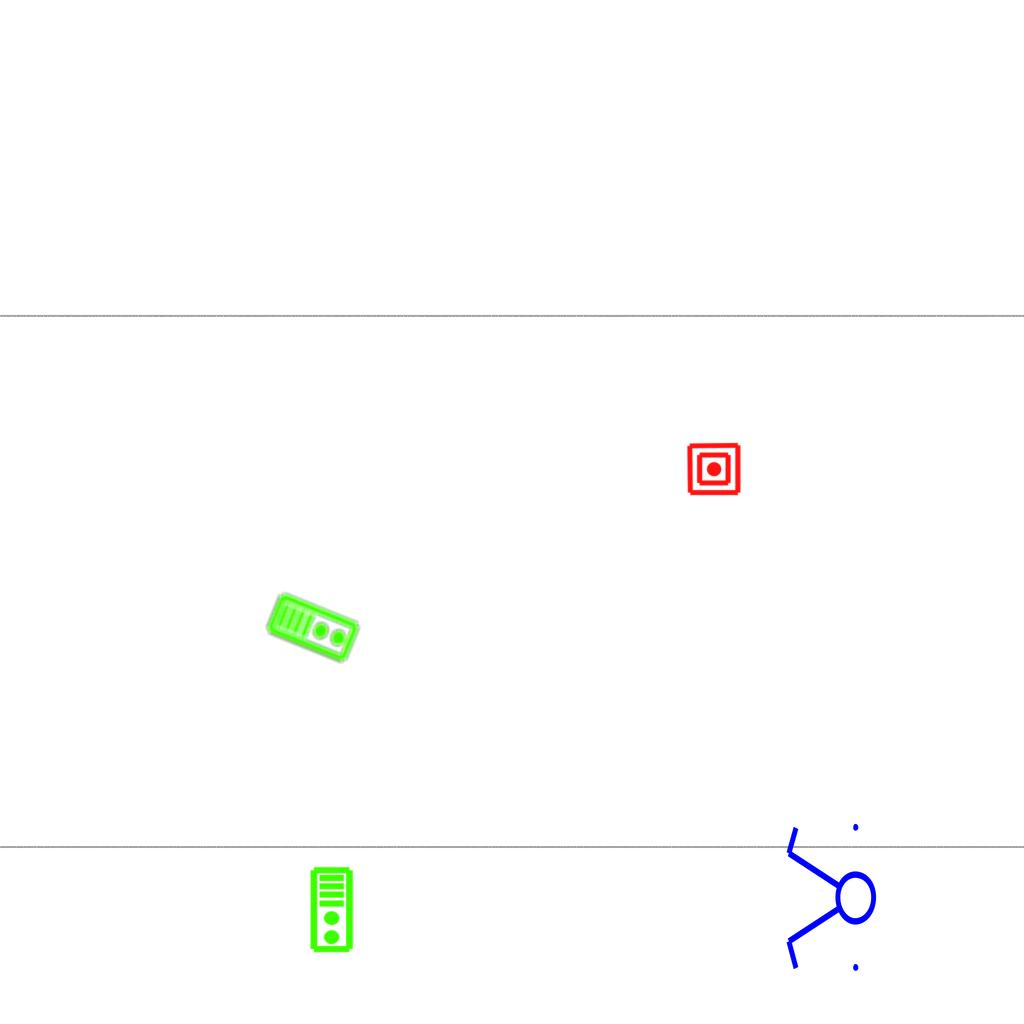Gegensprechanlage_mit_Video: (263, 588, 364, 666), (309, 866, 356, 954)
NAM-Nichtautomatischer_Melder: (686, 441, 742, 497)
Serienschalter: (782, 815, 878, 983)
